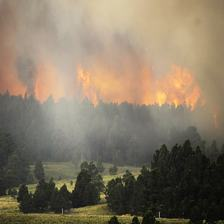fire: (8, 53, 207, 114)
